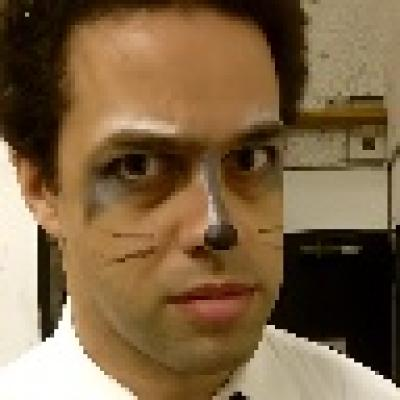angry: (60, 23, 292, 366)
